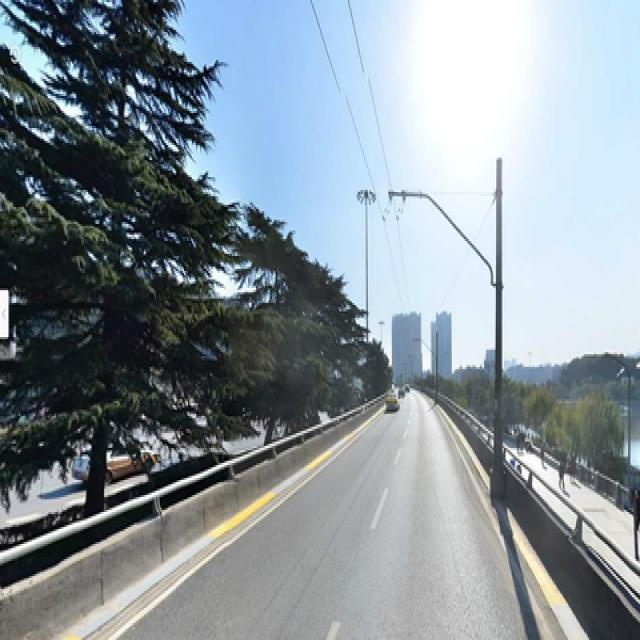cedr: (51, 9, 185, 472)
